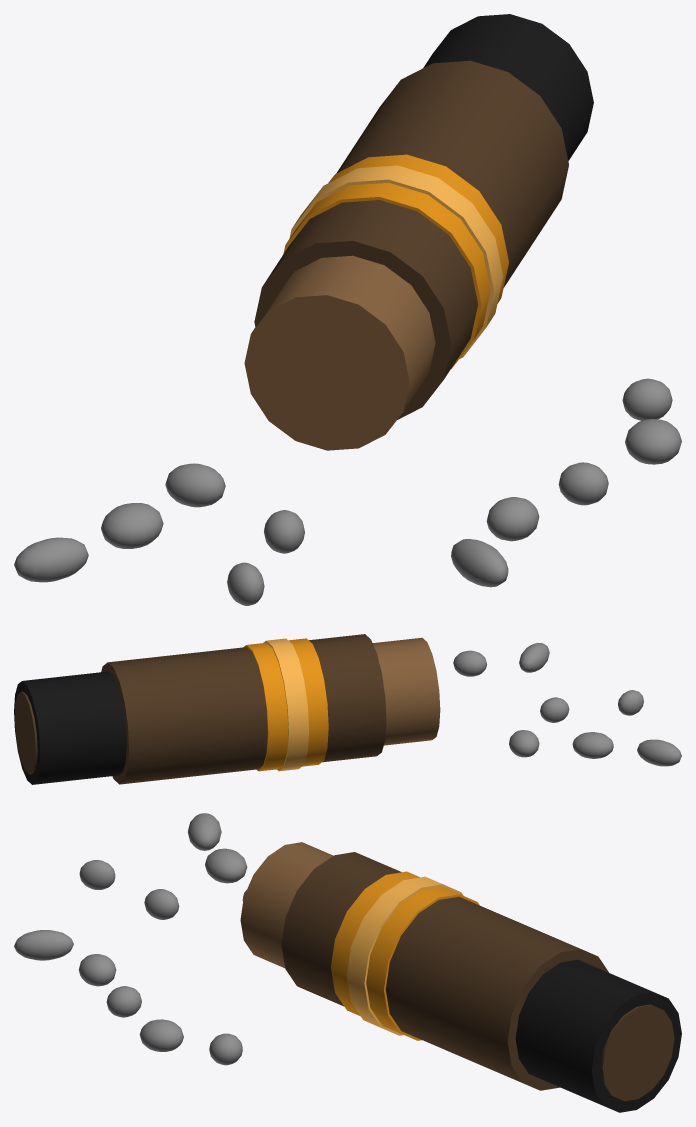
File: CMU3DCigarSpentPrintedSmallCloud.glb
3 views of the same model, one above another, from view 1: azimuth 30°, elevation 25°; view 2: azimuth 150°, elevation 25°; view 3: azimuth 270°, elevation 25° (orthographic). The views are drawn at different scales.
Visible parts, largest first — view 1: rolled tobacco body segment 1, rolled tobacco body segment 0, charred extinguished tip, raised golden paper band, gold band highlighted middle, loose cooled ash flake 0, loose cooled ash flake 1, loose cooled ash flake 2, loose cooled ash flake 8, loose cooled ash flake 5, loose cooled ash flake 6, loose cooled ash flake 7 (+3 smaller); view 2: rolled tobacco body segment 1, charred extinguished tip, rolled tobacco body segment 0, raised golden paper band, gold band highlighted middle, rolled tobacco body segment 3, loose cooled ash flake 0, loose cooled ash flake 1, loose cooled ash flake 6, loose cooled ash flake 5, loose cooled ash flake 2, loose cooled ash flake 3 (+1 smaller); view 3: rolled tobacco body segment 1, charred extinguished tip, raised golden paper band, rolled tobacco body segment 0, rolled tobacco body segment 3, gold band highlighted middle, loose cooled ash flake 5, loose cooled ash flake 1, loose cooled ash flake 8, loose cooled ash flake 0, loose cooled ash flake 6, loose cooled ash flake 7 (+3 smaller).
Part boxes in pixels (<box>): rolled tobacco body segment 1: <box>254,60,568,419</box>; rolled tobacco body segment 0: <box>244,255,435,450</box>; charred extinguished tip: <box>423,14,593,160</box>; raised golden paper band: <box>283,154,508,368</box>; gold band highlighted middle: <box>289,165,503,358</box>; loose cooled ash flake 0: <box>14,537,88,582</box>; loose cooled ash flake 1: <box>101,503,163,548</box>; loose cooled ash flake 2: <box>165,463,225,507</box>; loose cooled ash flake 8: <box>625,419,681,464</box>; loose cooled ash flake 5: <box>451,539,508,587</box>; loose cooled ash flake 6: <box>486,497,539,541</box>; loose cooled ash flake 7: <box>558,462,608,505</box>; rolled tobacco body segment 1: <box>101,634,386,784</box>; charred extinguished tip: <box>14,671,126,784</box>; rolled tobacco body segment 0: <box>372,637,440,745</box>; raised golden paper band: <box>243,638,328,771</box>; gold band highlighted middle: <box>263,638,308,771</box>; rolled tobacco body segment 3: <box>14,691,37,774</box>; loose cooled ash flake 0: <box>637,739,681,766</box>; loose cooled ash flake 1: <box>572,732,613,758</box>; loose cooled ash flake 6: <box>453,650,486,676</box>; loose cooled ash flake 5: <box>519,643,549,672</box>; loose cooled ash flake 2: <box>509,730,539,757</box>; loose cooled ash flake 3: <box>540,697,569,722</box>; rolled tobacco body segment 1: <box>281,852,608,1090</box>; charred extinguished tip: <box>515,959,681,1112</box>; raised golden paper band: <box>331,871,479,1040</box>; rolled tobacco body segment 0: <box>240,842,333,968</box>; rolled tobacco body segment 3: <box>601,1004,674,1101</box>; gold band highlighted middle: <box>346,876,463,1035</box>; loose cooled ash flake 5: <box>14,930,73,960</box>; loose cooled ash flake 1: <box>205,848,247,883</box>; loose cooled ash flake 8: <box>139,1019,183,1051</box>; loose cooled ash flake 0: <box>187,813,221,850</box>; loose cooled ash flake 6: <box>78,954,116,986</box>; loose cooled ash flake 7: <box>106,986,141,1017</box>.
Size of the model in its own units: 0.4143 by 0.093 by 0.3897.
